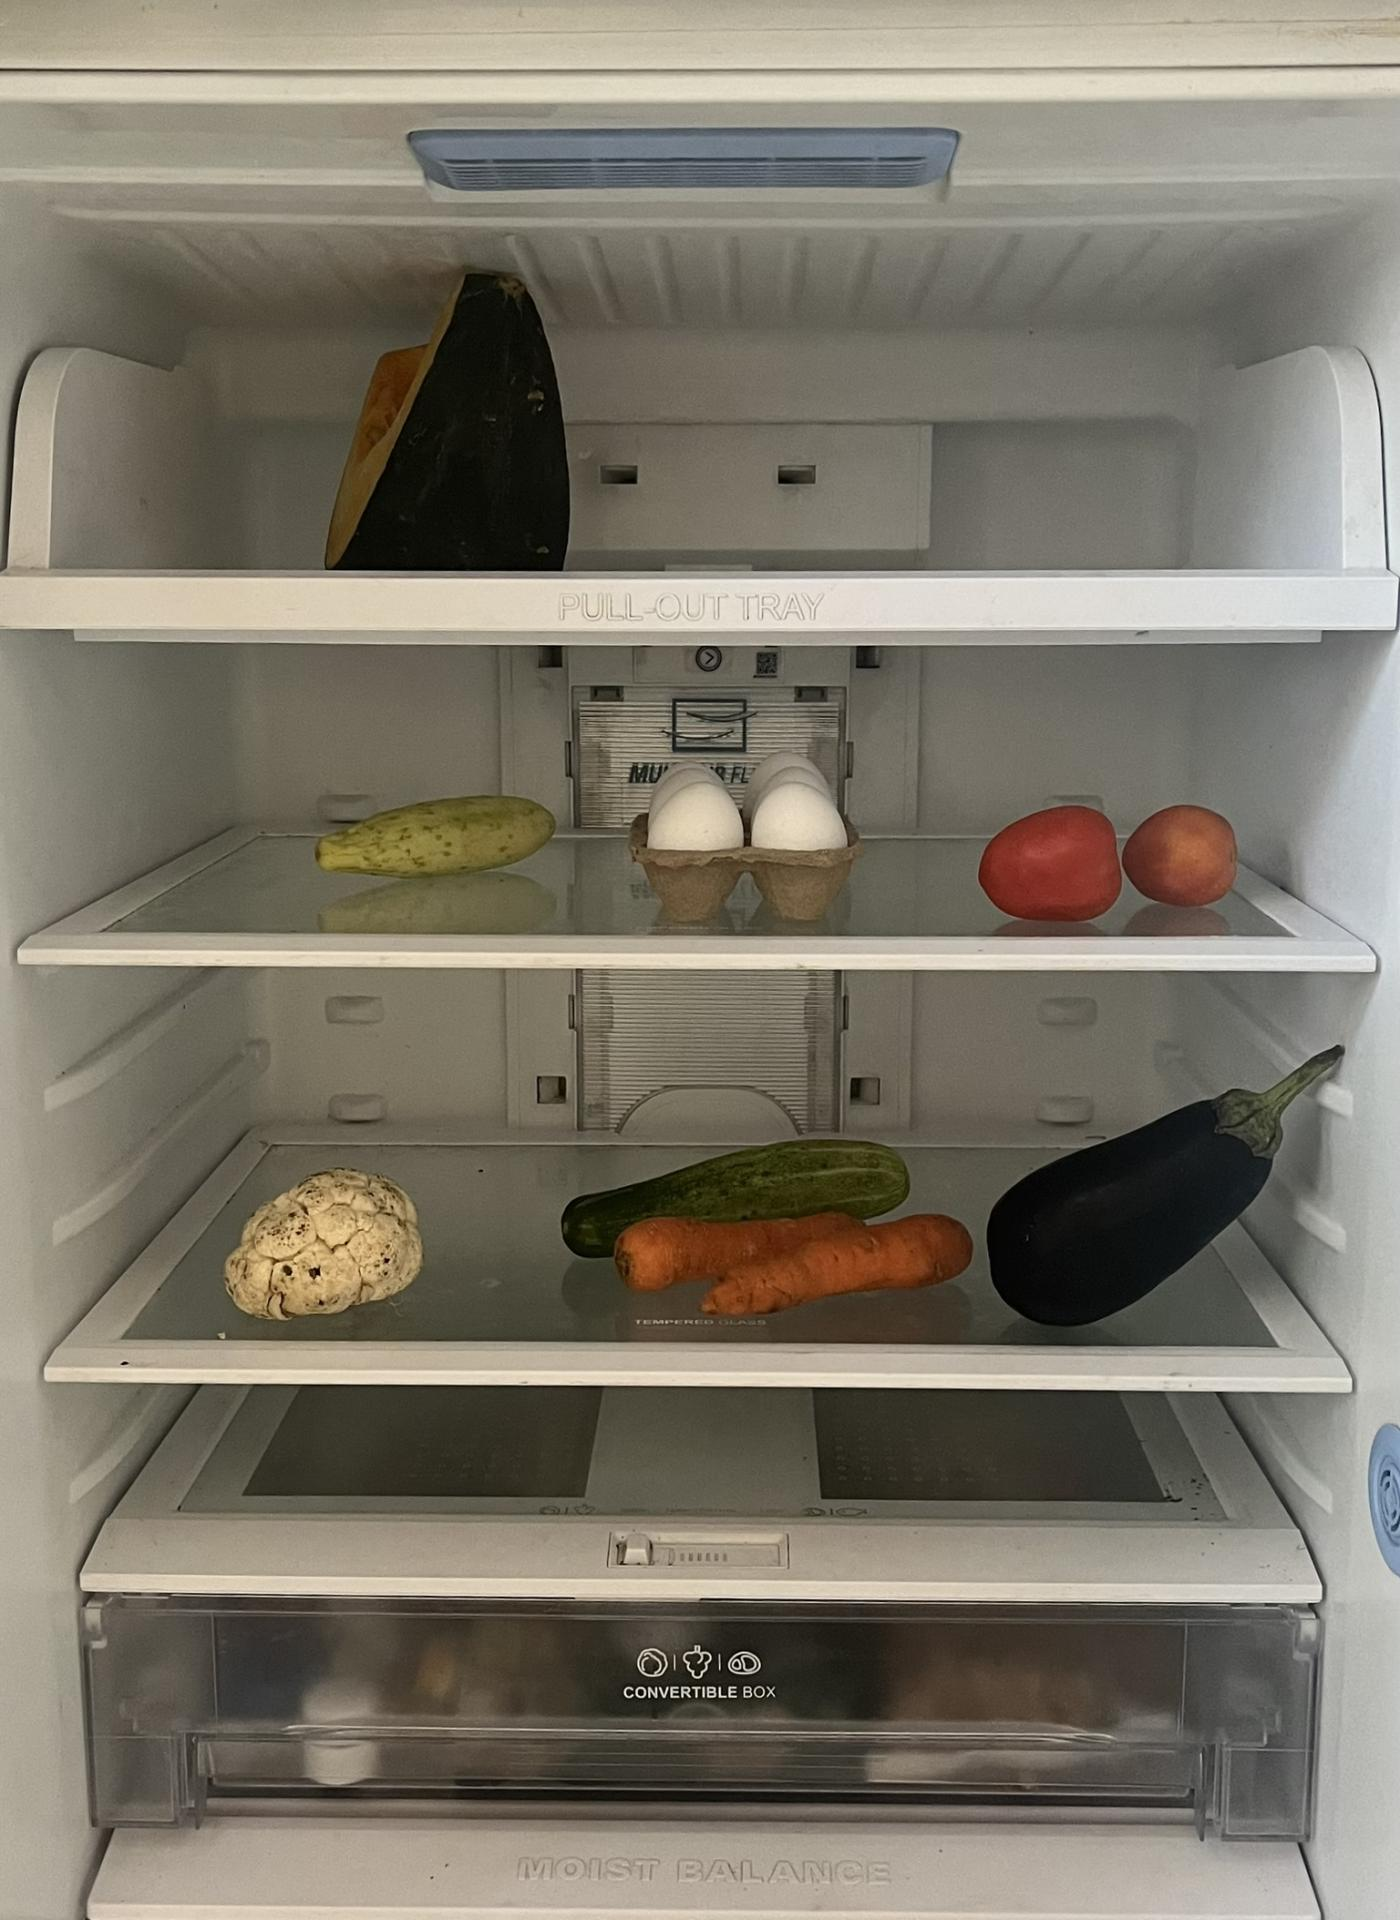brinjal: (980, 1070, 1321, 1330)
carrots: (629, 1215, 980, 1315)
cauliflower: (219, 1167, 428, 1321)
cucumber: (558, 1136, 921, 1255), (312, 793, 559, 880)
egg: (644, 756, 847, 853)
pumpkin: (322, 268, 581, 578)
tomato: (977, 799, 1237, 917)
